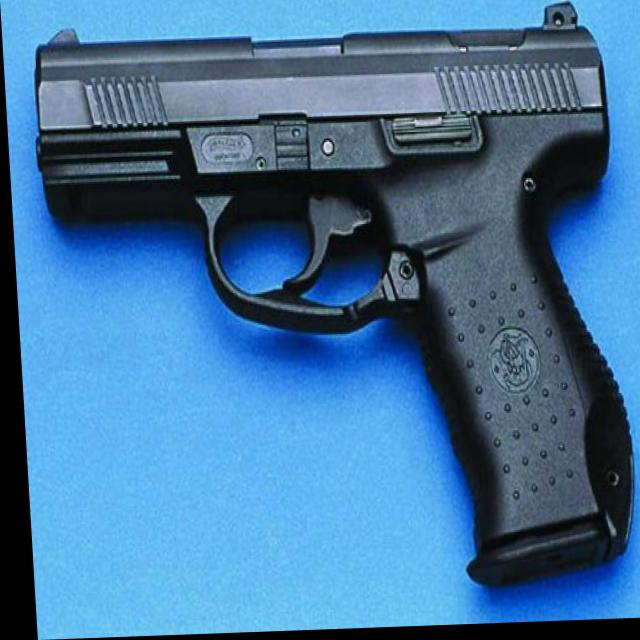handgun: (27, 4, 634, 607)
